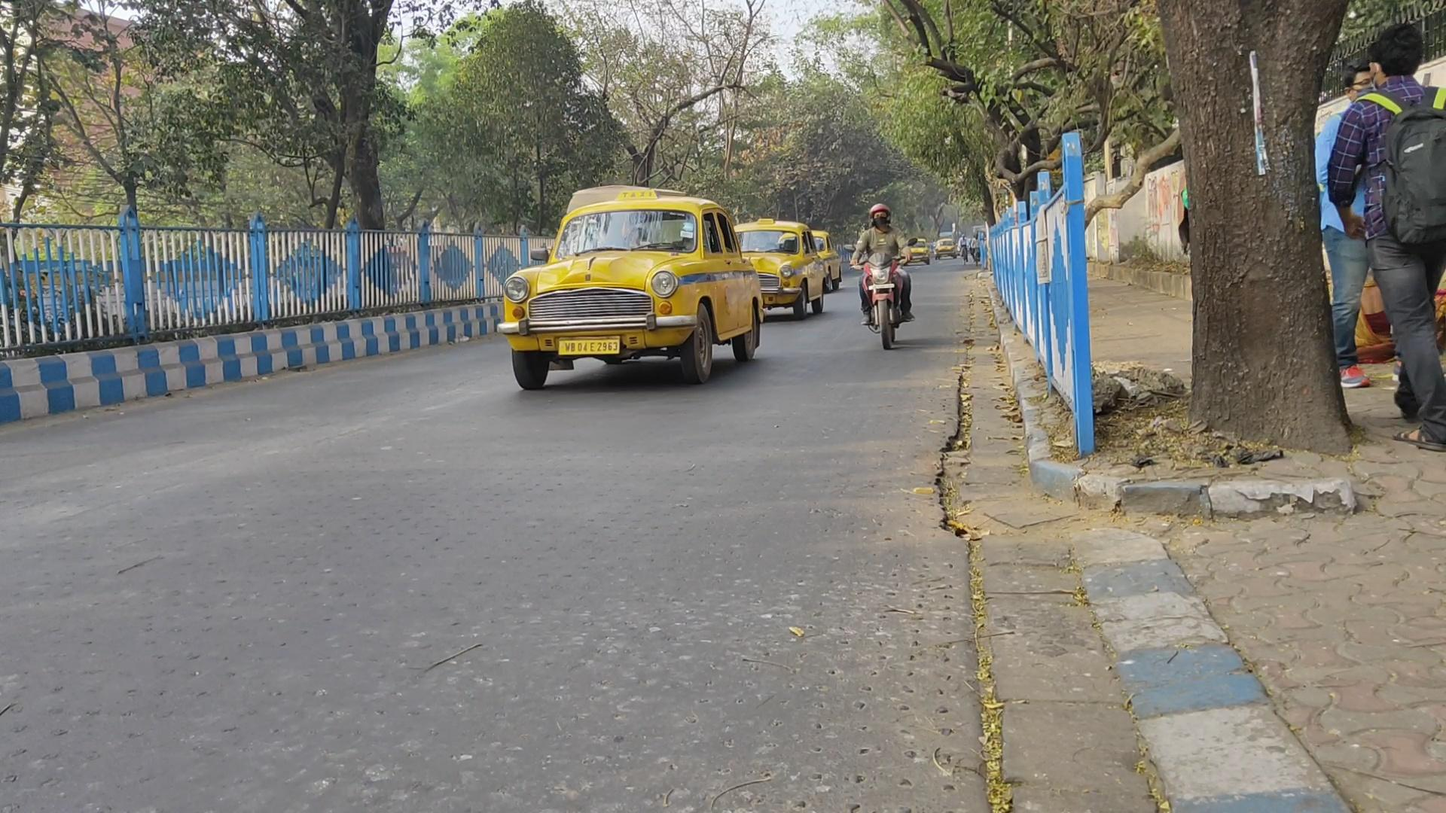bike: (853, 203, 914, 350), (959, 233, 970, 265)
car: (499, 189, 764, 392), (735, 221, 826, 321), (908, 238, 931, 266), (934, 239, 958, 261)
